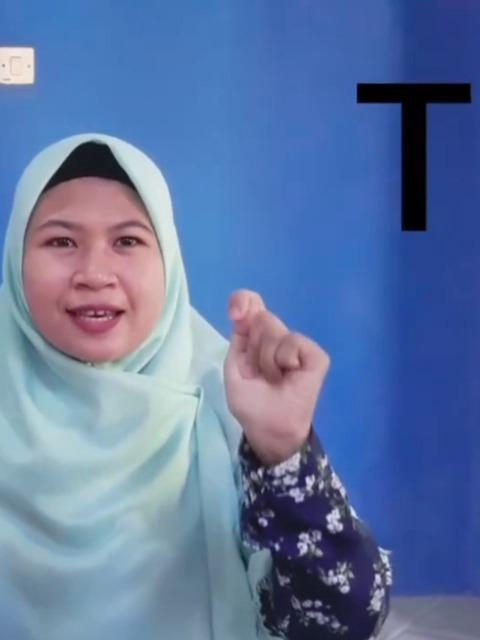T: (219, 288, 333, 450)
